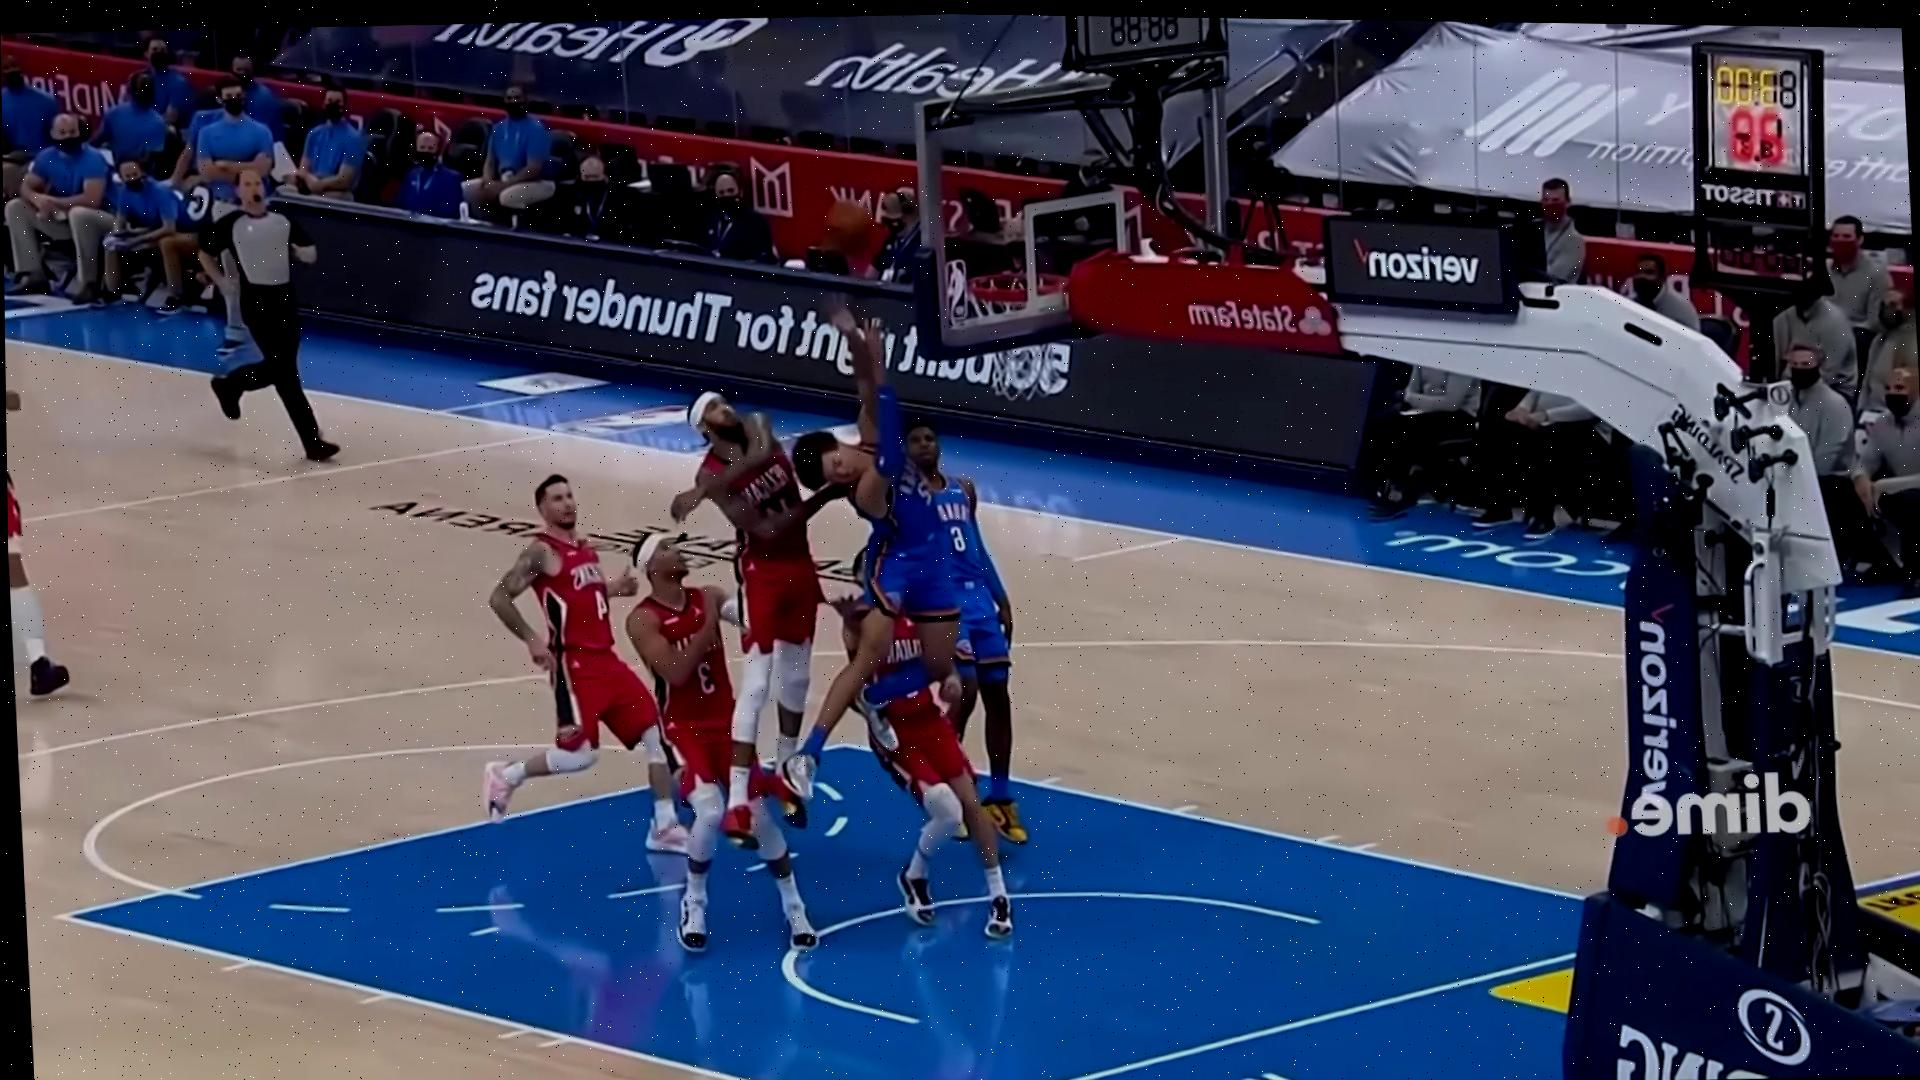foul: (707, 331, 972, 745)
